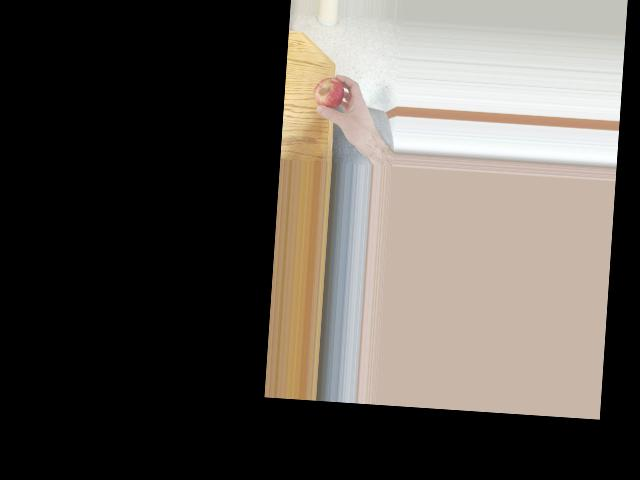apple: (313, 75, 347, 112)
